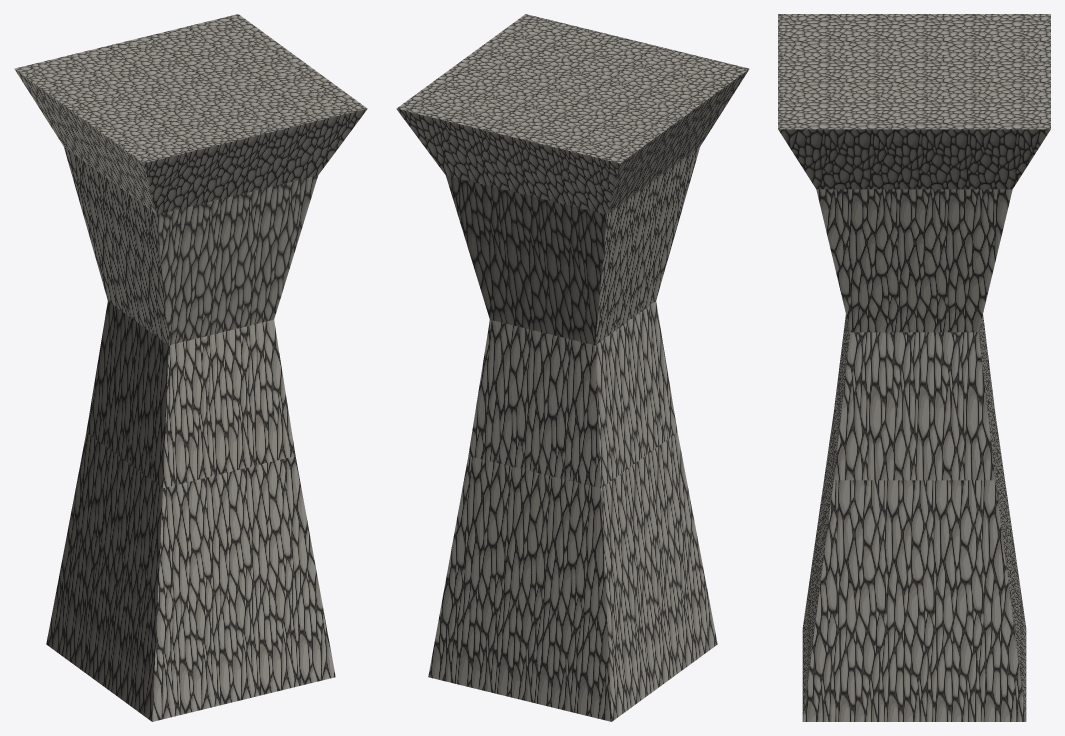
Rendered from tower (1).fbx.
The picture shows the model from 3 angles, left to right: view 1: azimuth 30°, elevation 25°; view 2: azimuth 150°, elevation 25°; view 3: azimuth 270°, elevation 25°; orthographic projection. The views are drawn at different scales.
Visible parts, largest first — view 1: Cube; view 2: Cube; view 3: Cube.
Part boxes in pixels (x1=…): Cube: x1=14, y1=14, x2=367, y2=721; Cube: x1=396, y1=14, x2=749, y2=721; Cube: x1=778, y1=14, x2=1050, y2=721.
Bounding box in the file's own units: 162 × 396 × 162.
